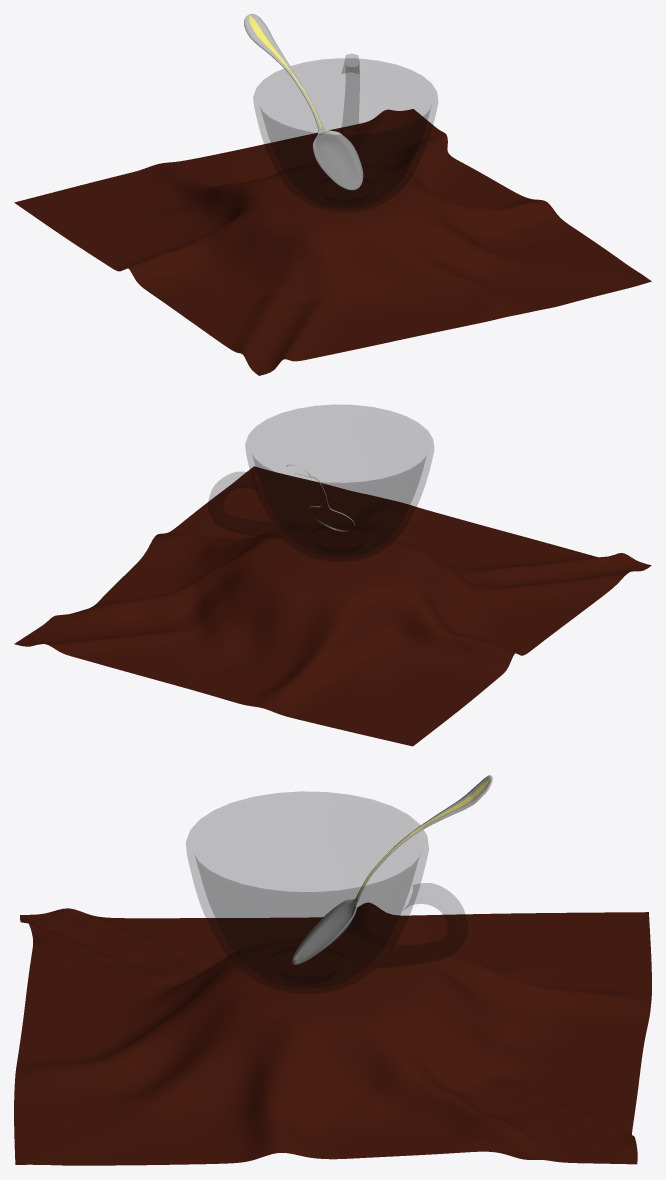
3 views of the same model, one above another, from view 1: azimuth 30°, elevation 25°; view 2: azimuth 150°, elevation 25°; view 3: azimuth 270°, elevation 25° (orthographic). The views are drawn at different scales.
Parts seen in each view (by area): view 1: Plane001, Кружка, ложка001; view 2: Plane001, Кружка; view 3: Plane001, Кружка, ложка001.
Boxes of the visible parts, <box> form: Plane001: <box>14,109,651,375</box>; Кружка: <box>253,54,437,212</box>; ложка001: <box>244,14,363,190</box>; Plane001: <box>14,466,651,746</box>; Кружка: <box>208,404,433,561</box>; Plane001: <box>14,902,651,1165</box>; Кружка: <box>186,791,467,993</box>; ложка001: <box>292,775,492,964</box>.
Bounding box in the file's own units: 4.86 × 2.22 × 5.15.
